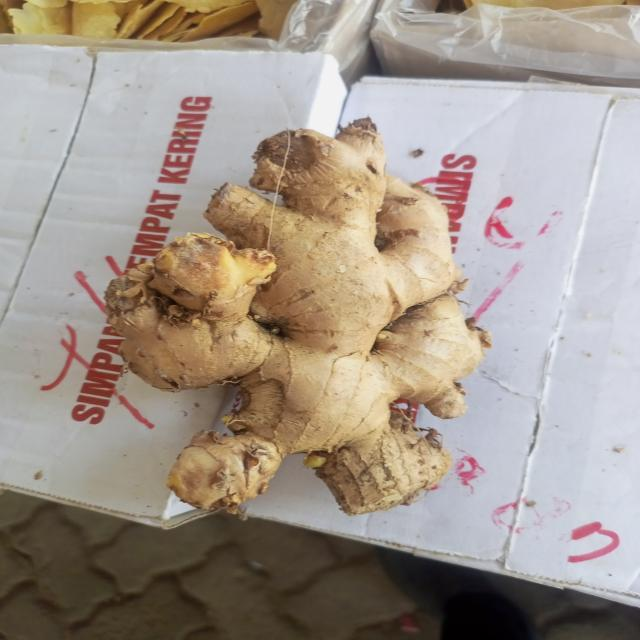ginger: (116, 122, 468, 510)
